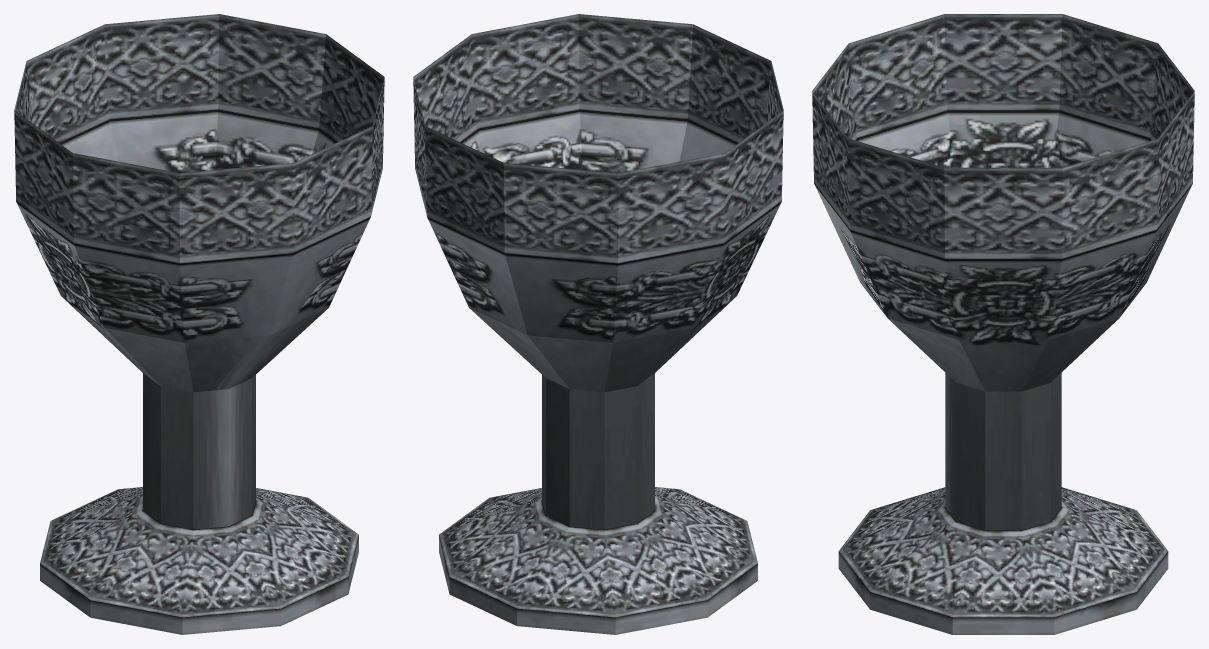
Rendered from ITMI.glb.
3 views of the same model, side by side, from view 1: azimuth 30°, elevation 25°; view 2: azimuth 150°, elevation 25°; view 3: azimuth 270°, elevation 25° (orthographic).
Parts seen in each view (by area): view 1: zengin; view 2: zengin; view 3: zengin.
Part boxes in pixels (<box>): zengin: <box>14,14,384,634</box>; zengin: <box>413,14,783,634</box>; zengin: <box>812,14,1194,634</box>.
Size of the model in its own units: 0.1865 by 0.2702 by 0.1961.
1 material, 1 textured.
